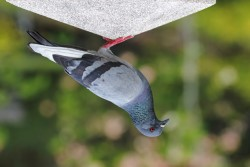pigeon: (22, 27, 171, 138)
